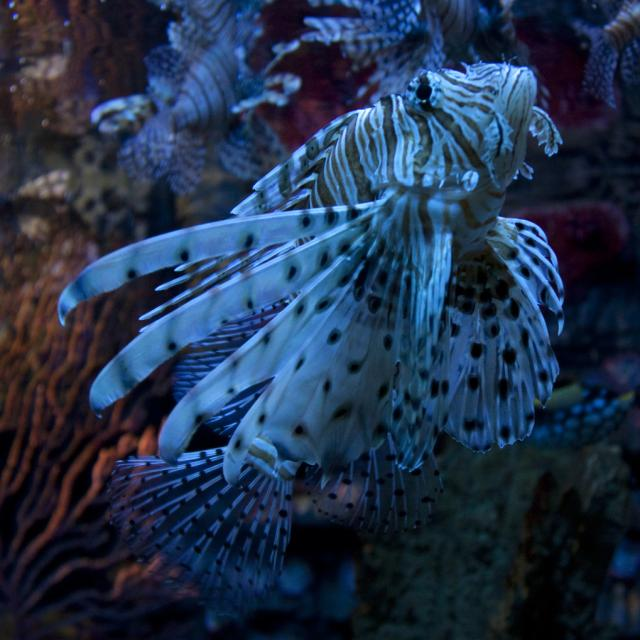Fish: (71, 55, 588, 565), (84, 4, 301, 192), (300, 4, 461, 100), (569, 0, 640, 109)
